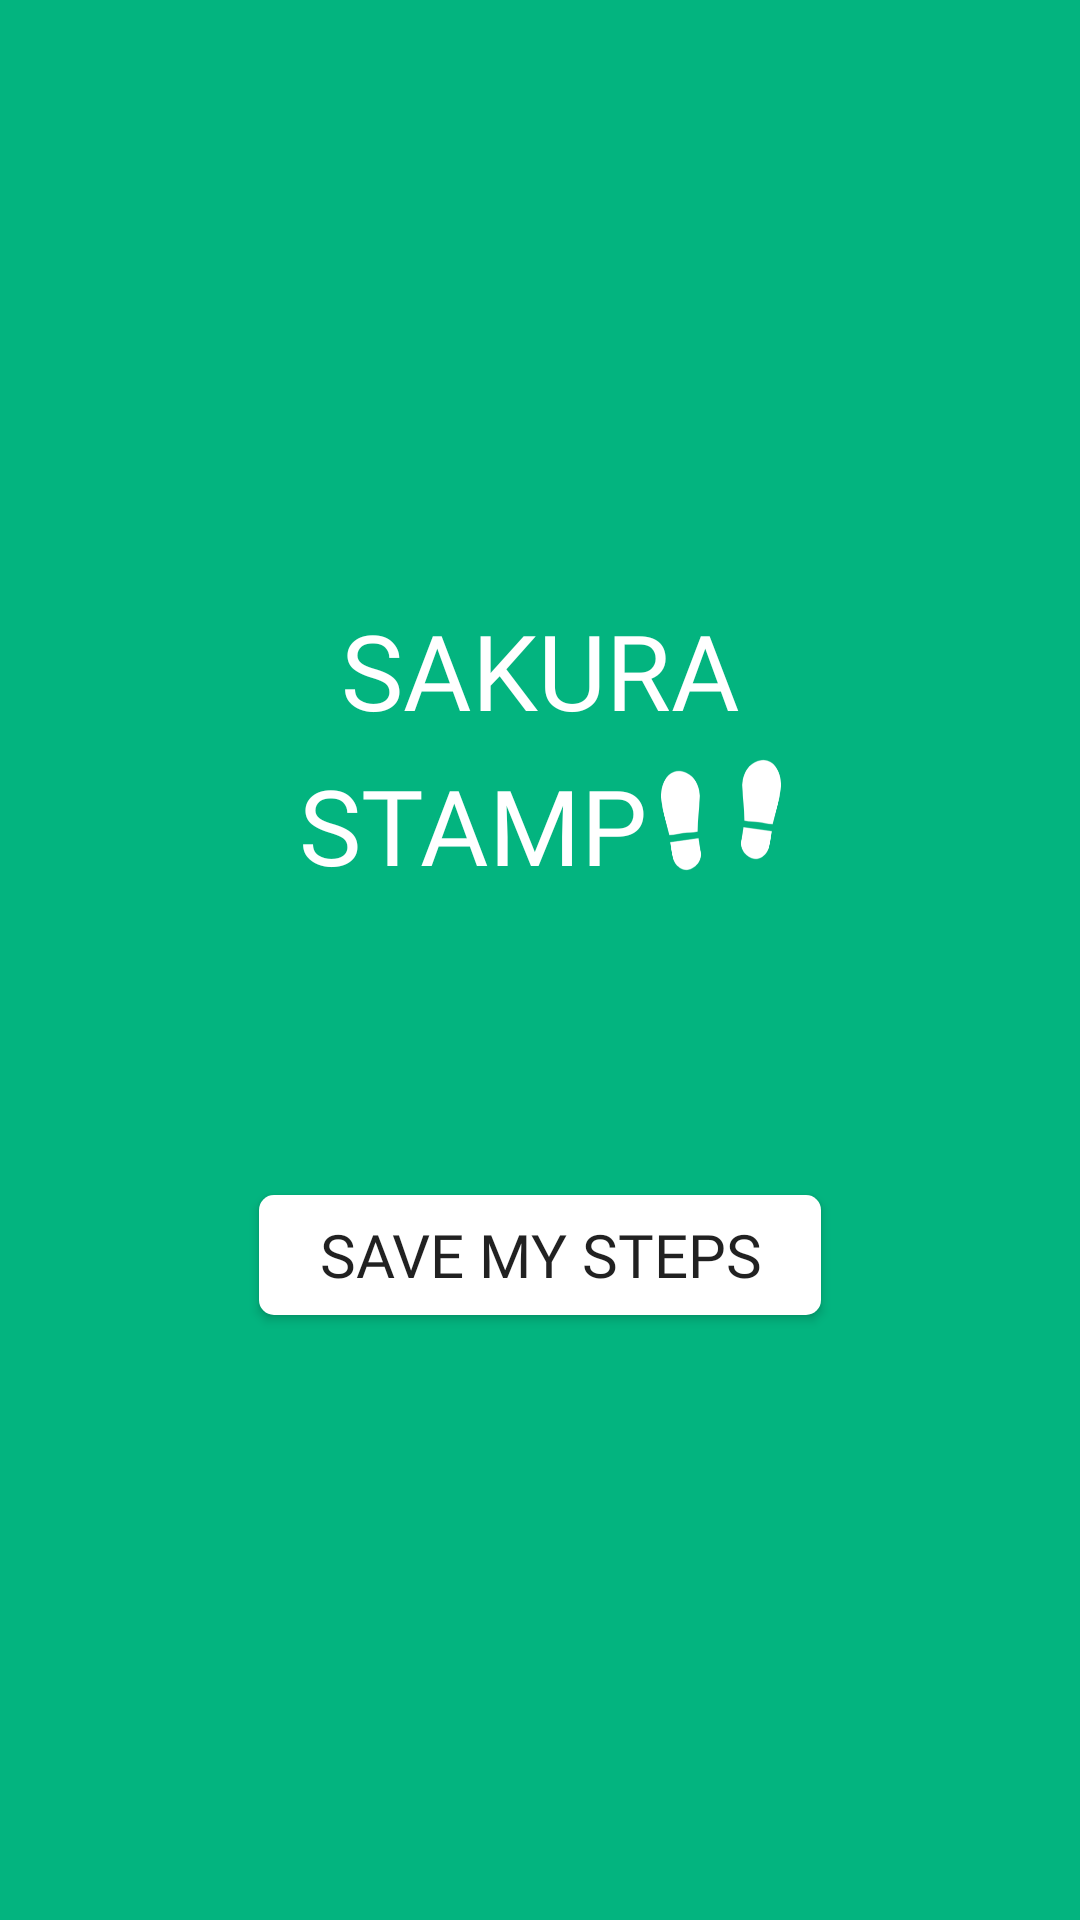

Named icons in this screenshot (1080*1920) and their centers, [x,y]:
footmark: [721,815]
